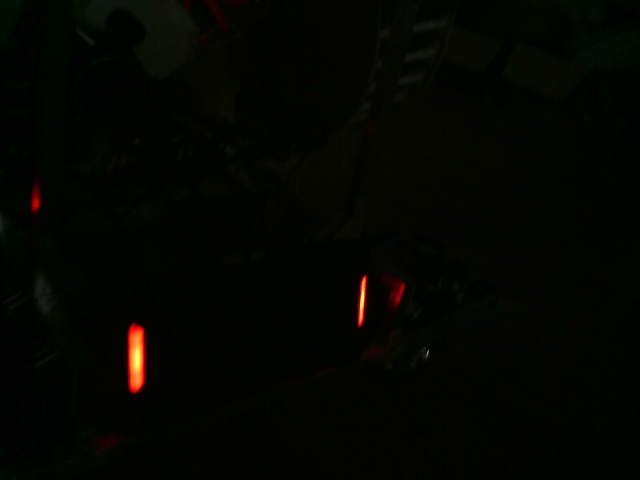lamp: (124, 324, 149, 394), (355, 275, 370, 331)
